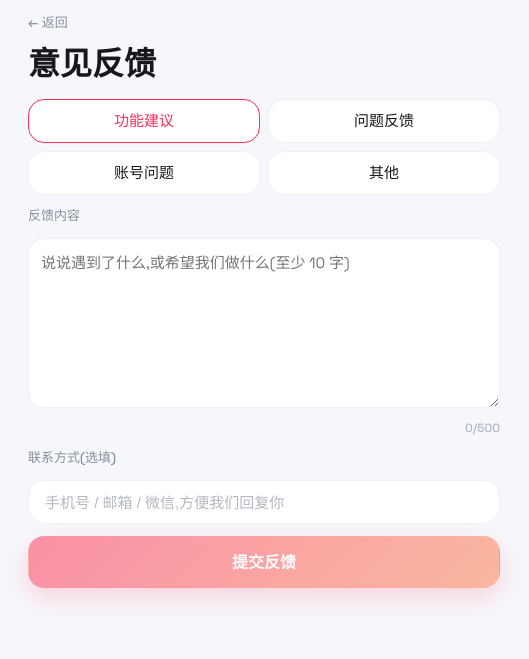
FeedbackPage › 提交失败展示后端文案并保留输入
The width and height of the screenshot is (529, 659).
Step 1. Type "消息偶尔重复出现两次" into the text box with class "feedback__content" → (264, 323), box [28, 238, 500, 408]
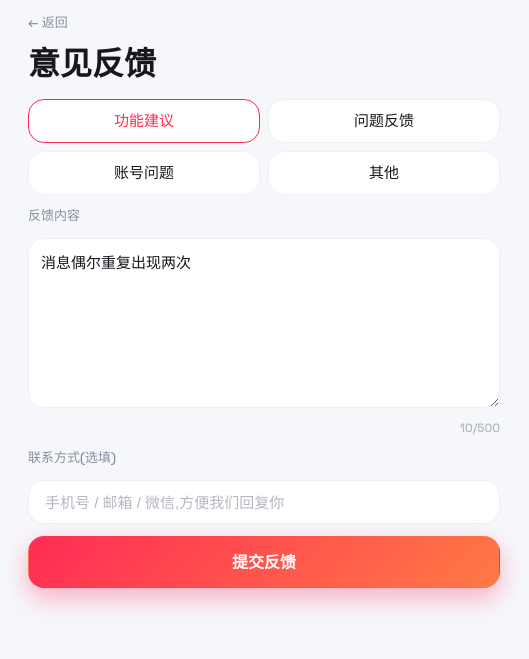
Step 2. Click the button with class "feedback__submit" → (264, 562), box [28, 536, 500, 588]
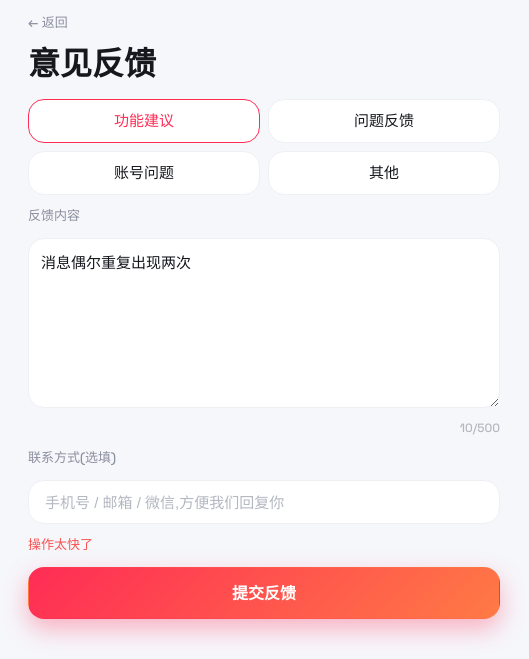
Now the text with class "feedback__error" reads "操作太快了", box [28, 536, 93, 553]
